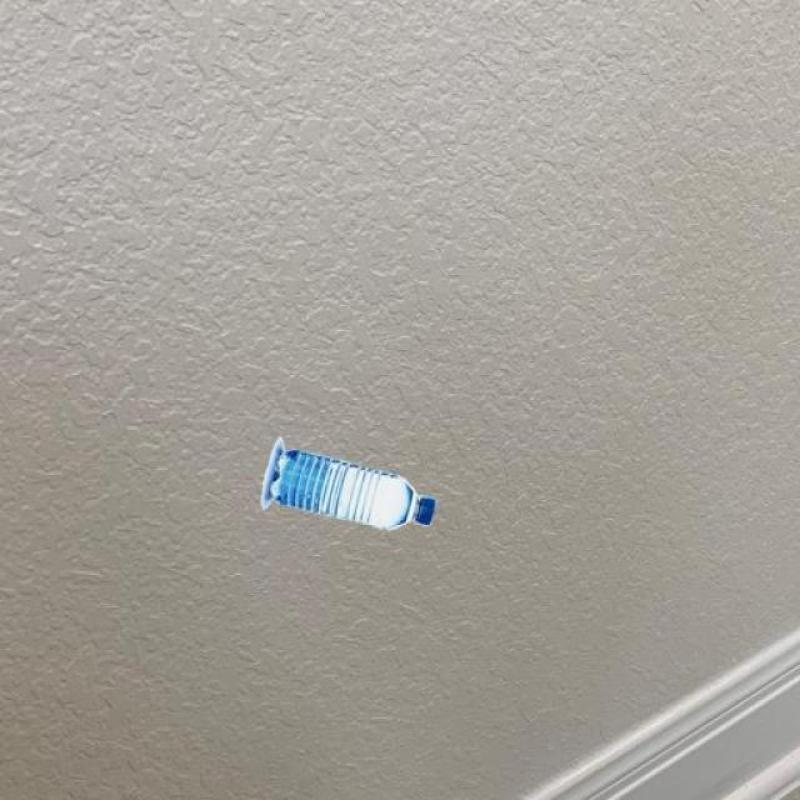botella: (273, 448, 435, 534)
